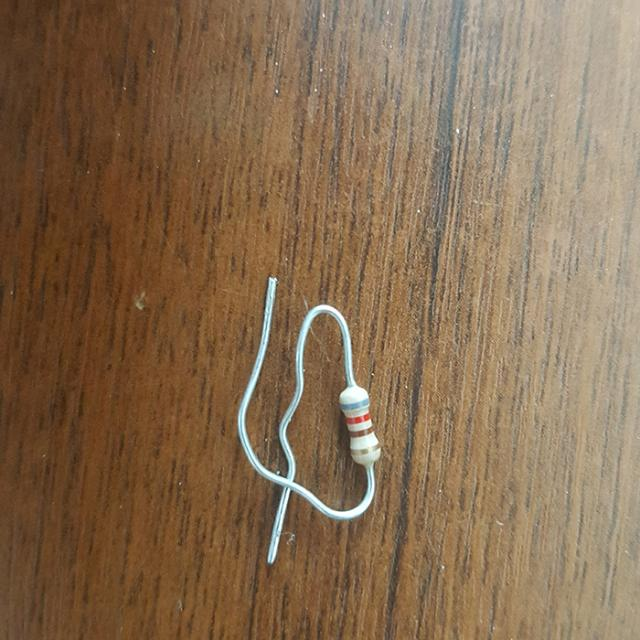brown: (350, 427, 372, 436)
gold: (351, 446, 378, 453)
grey: (341, 400, 368, 411)
red: (347, 414, 368, 423)
resistor: (330, 384, 394, 476)
